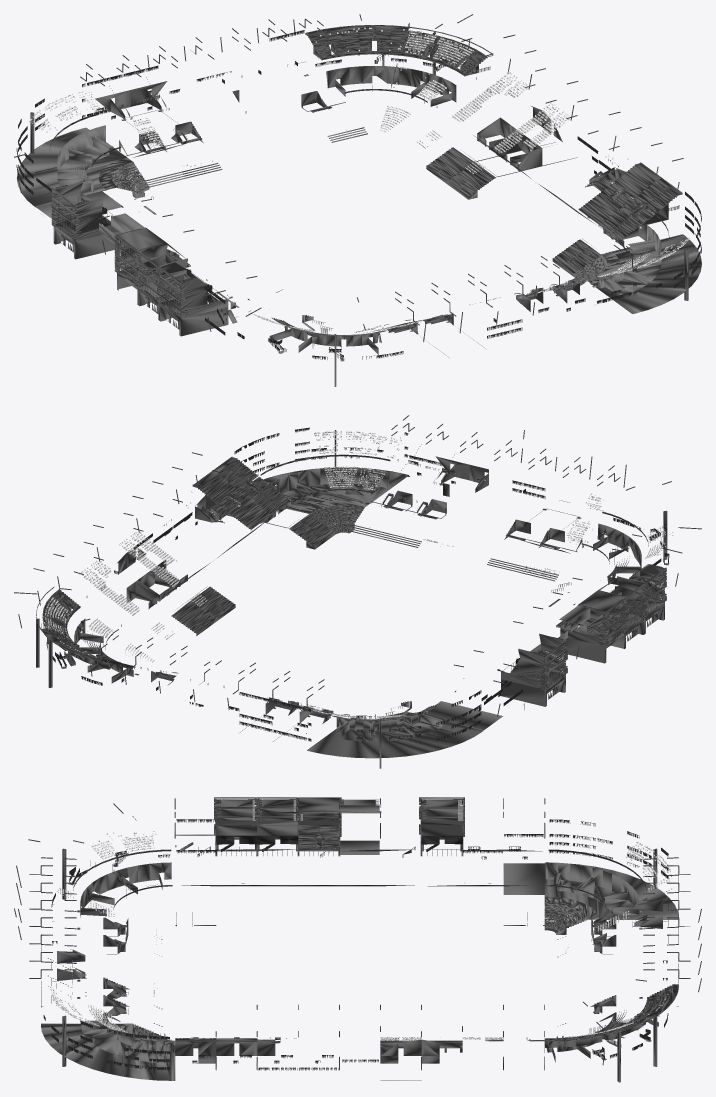
Rendered from modern_stadium_part02.glb.
3 renders of one model, top to bottom at view 1: azimuth 30°, elevation 25°; view 2: azimuth 150°, elevation 25°; view 3: azimuth 270°, elevation 25°, orthographic. The views are drawn at different scales.
Visible parts, largest first — view 1: Material3.001, Material2.065+Material2.066, Material2.078+Material2.083, Material2.027, Material2.011+Material2.013+Material2.018, Material2.041, Material2.133; view 2: Material3.001, Material2.065+Material2.066, Material2.078+Material2.083, Material2.011+Material2.013+Material2.018, Material2.027, Material2.041, Material2.133; view 3: Material3.001, Material2.065+Material2.066, Material2.011+Material2.013+Material2.018, Material2.027, Material2.078+Material2.083, Material2.041, Material2.133.
Part boxes in pixels (x1=…): Material3.001: x1=51, y1=66, x2=682, y2=357; Material2.065+Material2.066: x1=17, y1=61, x2=701, y2=361; Material2.078+Material2.083: x1=28, y1=27, x2=689, y2=333; Material2.027: x1=30, y1=22, x2=688, y2=386; Material2.011+Material2.013+Material2.018: x1=16, y1=30, x2=701, y2=360; Material2.041: x1=14, y1=14, x2=683, y2=342; Material2.133: x1=49, y1=52, x2=669, y2=252; Material3.001: x1=74, y1=456, x2=666, y2=741; Material2.065+Material2.066: x1=47, y1=444, x2=669, y2=758; Material2.078+Material2.083: x1=42, y1=431, x2=673, y2=719; Material2.011+Material2.013+Material2.018: x1=46, y1=427, x2=669, y2=743; Material2.027: x1=36, y1=430, x2=667, y2=768; Material2.041: x1=14, y1=415, x2=701, y2=716; Material2.133: x1=71, y1=454, x2=648, y2=642; Material3.001: x1=41, y1=797, x2=678, y2=1080; Material2.065+Material2.066: x1=41, y1=799, x2=678, y2=1080; Material2.011+Material2.013+Material2.018: x1=41, y1=819, x2=678, y2=1070; Material2.027: x1=62, y1=848, x2=678, y2=1082; Material2.078+Material2.083: x1=48, y1=831, x2=671, y2=1041; Material2.041: x1=14, y1=798, x2=701, y2=1070; Material2.133: x1=73, y1=849, x2=646, y2=910.
Bounding box in the file's own units: 180 × 27.49 × 218.
9 materials, 7 textured.
